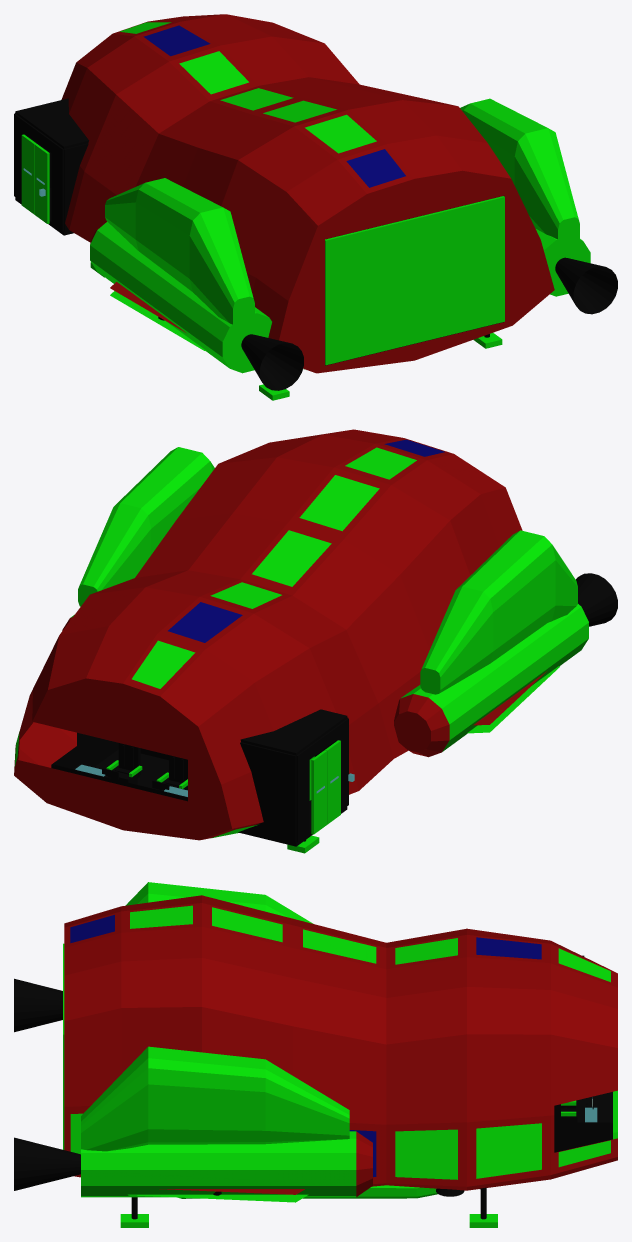
File: kestrel.glb
3 renders of one model, top to bottom at view 1: azimuth 30°, elevation 25°; view 2: azimuth 150°, elevation 25°; view 3: azimuth 270°, elevation 25°, orthographic. The views are drawn at different scales.
Parts seen in each view (by area): view 1: expedition_kestrel:lifting_body, expedition_kestrel:ramp_ramp, expedition_kestrel:engine_shoulder_-1, expedition_kestrel:drive_housing_-1, expedition_kestrel:engine_shoulder_1, expedition_kestrel:service_panels_0, expedition_kestrel:room_bridge-eva, expedition_kestrel:engine_1, expedition_kestrel:engine_0, expedition_kestrel:ceiling_bridge-eva, expedition_kestrel:drive_housing_1, expedition_kestrel:door_bridge-eva-outer_1 (+2 smaller); view 2: expedition_kestrel:lifting_body, expedition_kestrel:engine_shoulder_-1, expedition_kestrel:service_panels_0, expedition_kestrel:drive_housing_-1, expedition_kestrel:engine_shoulder_1, expedition_kestrel:room_bridge-eva, expedition_kestrel:room_bridge, expedition_kestrel:ceiling_bridge-eva, expedition_kestrel:engine_0, expedition_kestrel:door_bridge-eva-outer_-1, expedition_kestrel:stub_wings, expedition_kestrel:door_bridge-eva-outer_1 (+2 smaller); view 3: expedition_kestrel:lifting_body, expedition_kestrel:engine_shoulder_1, expedition_kestrel:service_panels_0, expedition_kestrel:drive_housing_1, expedition_kestrel:engine_1, expedition_kestrel:engine_shoulder_-1, expedition_kestrel:room_bridge, expedition_kestrel:engine_0, expedition_kestrel:stub_wings, expedition_kestrel:ventral_chine_1, expedition_kestrel:gear_1, expedition_kestrel:gear_3.
Boxes of the visible parts, bbox=[...] form: expedition_kestrel:lifting_body: bbox=[61, 14, 554, 373]; expedition_kestrel:ramp_ramp: bbox=[325, 196, 504, 365]; expedition_kestrel:engine_shoulder_-1: bbox=[105, 178, 254, 333]; expedition_kestrel:drive_housing_-1: bbox=[90, 221, 271, 373]; expedition_kestrel:engine_shoulder_1: bbox=[460, 98, 579, 252]; expedition_kestrel:service_panels_0: bbox=[120, 22, 405, 369]; expedition_kestrel:room_bridge-eva: bbox=[14, 113, 88, 235]; expedition_kestrel:engine_1: bbox=[555, 257, 617, 314]; expedition_kestrel:engine_0: bbox=[241, 334, 303, 390]; expedition_kestrel:ceiling_bridge-eva: bbox=[15, 98, 88, 148]; expedition_kestrel:drive_housing_1: bbox=[536, 229, 590, 296]; expedition_kestrel:door_bridge-eva-outer_1: bbox=[34, 144, 49, 223]; expedition_kestrel:lifting_body: bbox=[14, 429, 522, 840]; expedition_kestrel:engine_shoulder_-1: bbox=[420, 530, 577, 694]; expedition_kestrel:service_panels_0: bbox=[14, 439, 444, 838]; expedition_kestrel:drive_housing_-1: bbox=[394, 604, 588, 757]; expedition_kestrel:engine_shoulder_1: bbox=[78, 447, 214, 606]; expedition_kestrel:room_bridge-eva: bbox=[238, 717, 348, 846]; expedition_kestrel:room_bridge: bbox=[51, 732, 187, 801]; expedition_kestrel:ceiling_bridge-eva: bbox=[240, 709, 347, 755]; expedition_kestrel:engine_0: bbox=[576, 573, 617, 626]; expedition_kestrel:door_bridge-eva-outer_-1: bbox=[311, 750, 327, 834]; expedition_kestrel:stub_wings: bbox=[467, 666, 559, 733]; expedition_kestrel:door_bridge-eva-outer_1: bbox=[325, 740, 340, 824]; expedition_kestrel:lifting_body: bbox=[64, 895, 617, 1190]; expedition_kestrel:engine_shoulder_1: bbox=[81, 1046, 349, 1151]; expedition_kestrel:service_panels_0: bbox=[70, 905, 610, 1179]; expedition_kestrel:drive_housing_1: bbox=[81, 1131, 372, 1197]; expedition_kestrel:engine_1: bbox=[14, 1137, 80, 1190]; expedition_kestrel:engine_shoulder_-1: bbox=[126, 882, 313, 923]; expedition_kestrel:room_bridge: bbox=[554, 1092, 612, 1152]; expedition_kestrel:engine_0: bbox=[14, 978, 62, 1032]; expedition_kestrel:stub_wings: bbox=[128, 1189, 308, 1202]; expedition_kestrel:ventral_chine_1: bbox=[178, 1185, 438, 1198]; expedition_kestrel:gear_1: bbox=[469, 1187, 497, 1227]; expedition_kestrel:gear_3: bbox=[120, 1197, 148, 1227].
Size of the model in its own units: 13.8 by 7.99 by 18.
